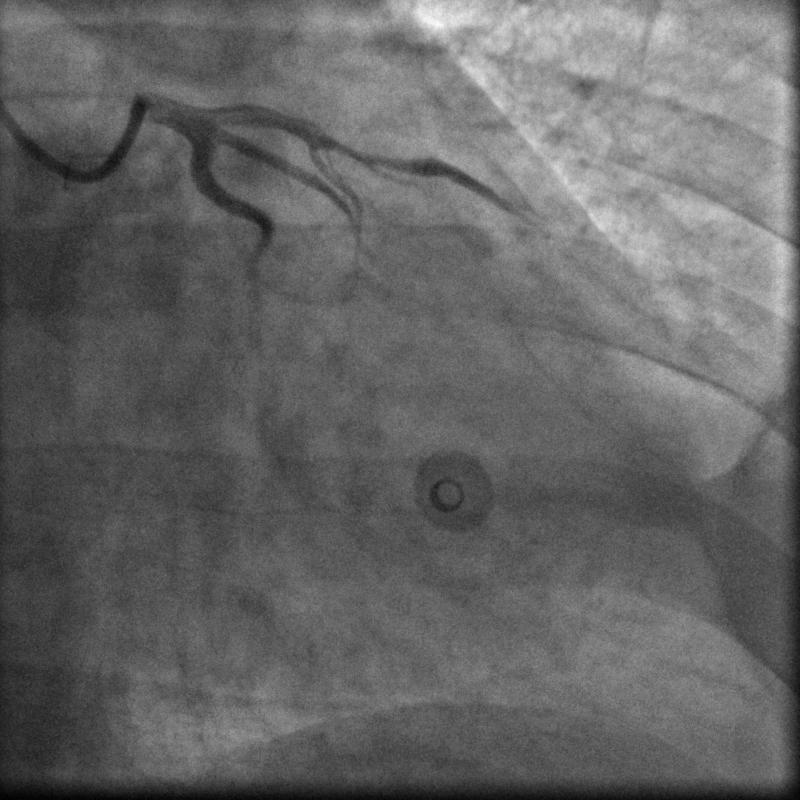Stenosis: (325, 132, 411, 176)
